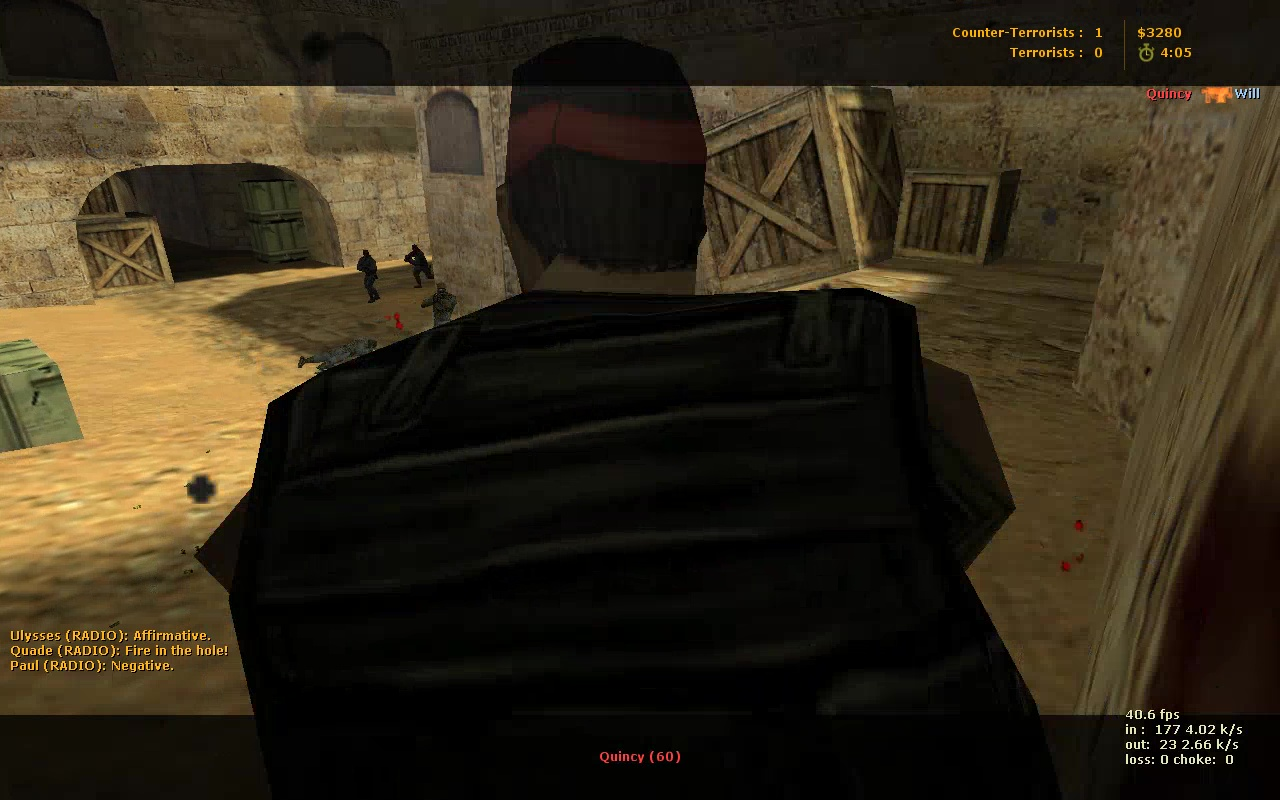ct: (400, 241, 440, 289), (422, 288, 460, 328), (358, 252, 385, 304)
dead: (298, 339, 377, 371)
